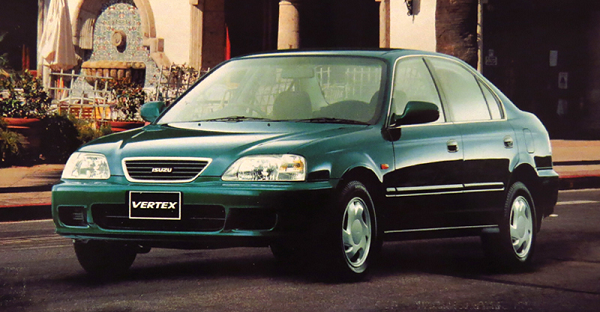sedan: (50, 46, 560, 282)
